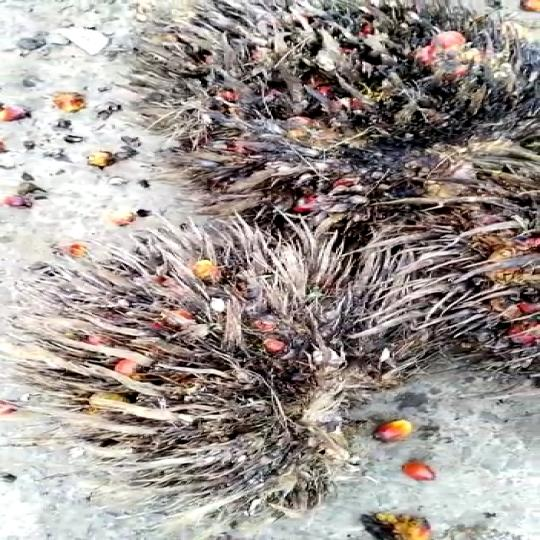terlalu masak: (14, 213, 458, 526), (112, 0, 540, 230)
